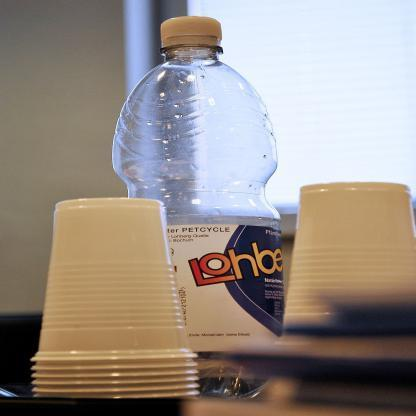bottle: (101, 9, 297, 399)
